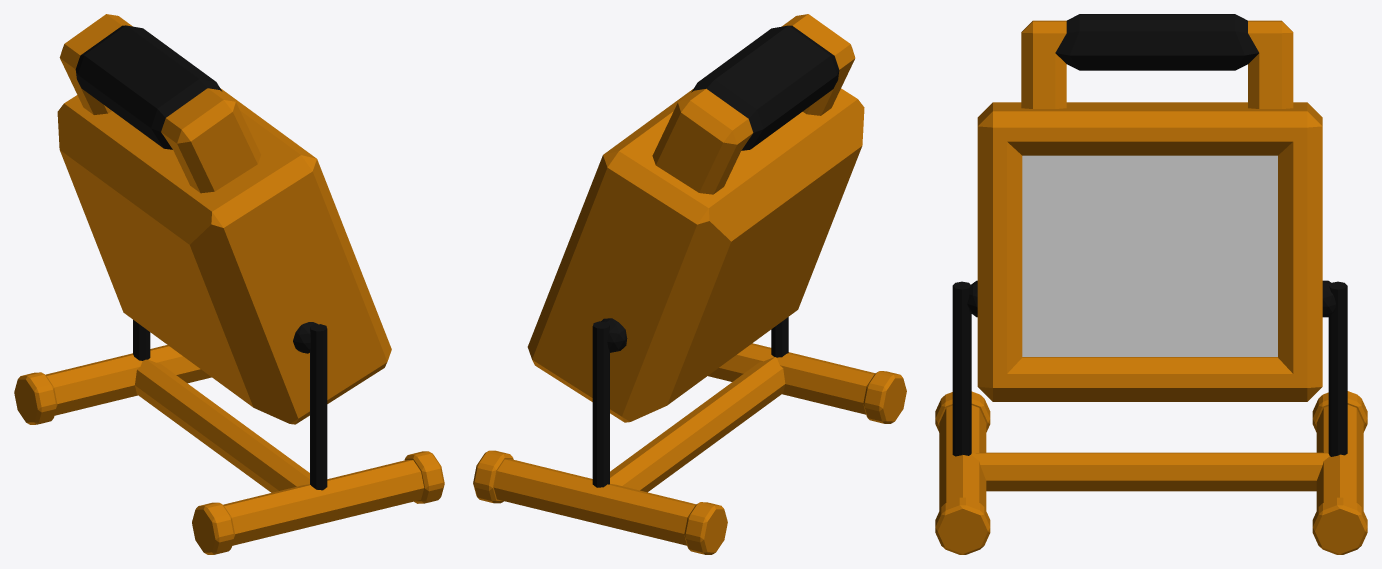
Rendered from work_light.glb.
3 renders of one model, left to right at view 1: azimuth 30°, elevation 25°; view 2: azimuth 150°, elevation 25°; view 3: azimuth 270°, elevation 25°, orthographic. The views are drawn at different scales.
Parts seen in each view (by area): view 1: Work_LIght_A; view 2: Work_LIght_A; view 3: Work_LIght_A.
Part boxes in pixels (left/top/right/bottom): Work_LIght_A: left=14, top=14, right=444, bottom=554; Work_LIght_A: left=473, top=14, right=906, bottom=554; Work_LIght_A: left=935, top=14, right=1367, bottom=554.
Bounding box in the file's own units: 0.9079 × 1.6 × 1.4.
